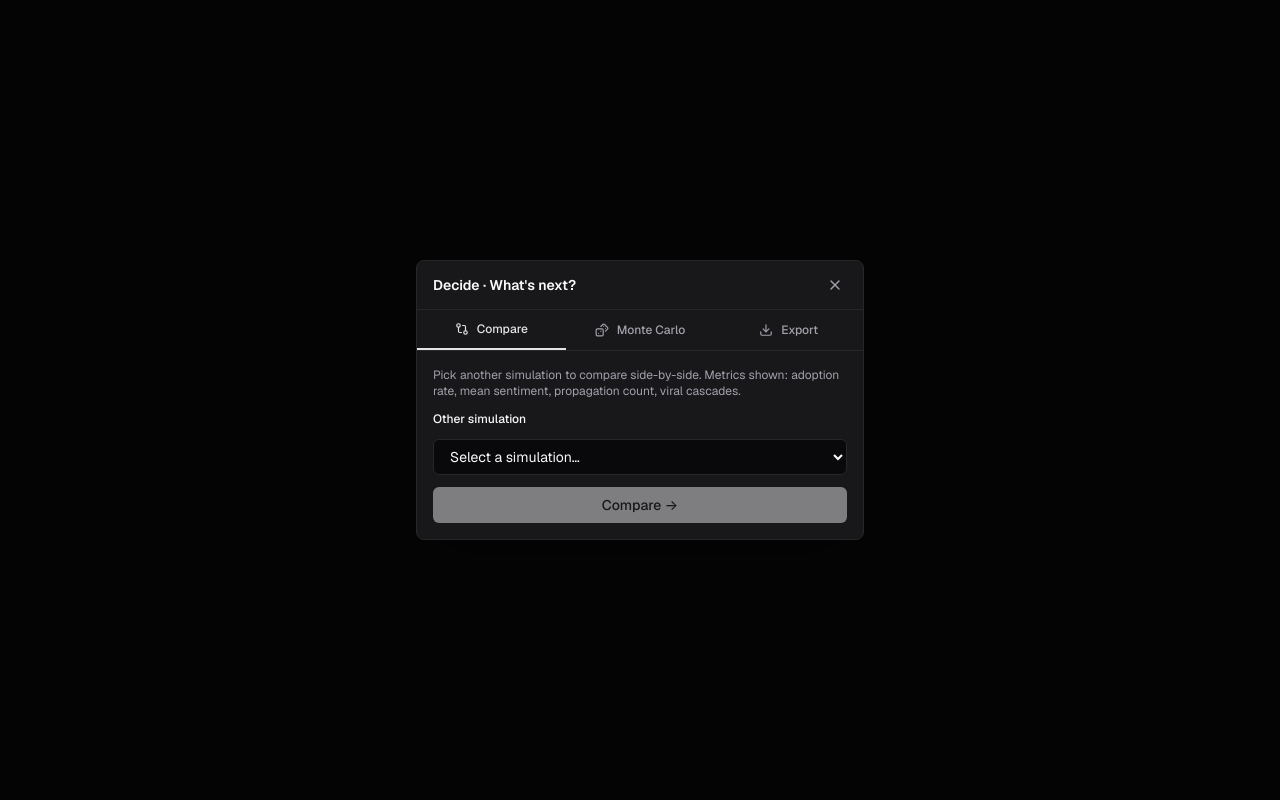
Test case: <DecidePanel /> › switches to Monte Carlo tab when clicked
The width and height of the screenshot is (1280, 800).
What coordinates should you click on to do the following:
click the button with test id "decide-tab-monte_carlo"
I would click on:
 (640, 330)
Its box is [566,310,714,350].
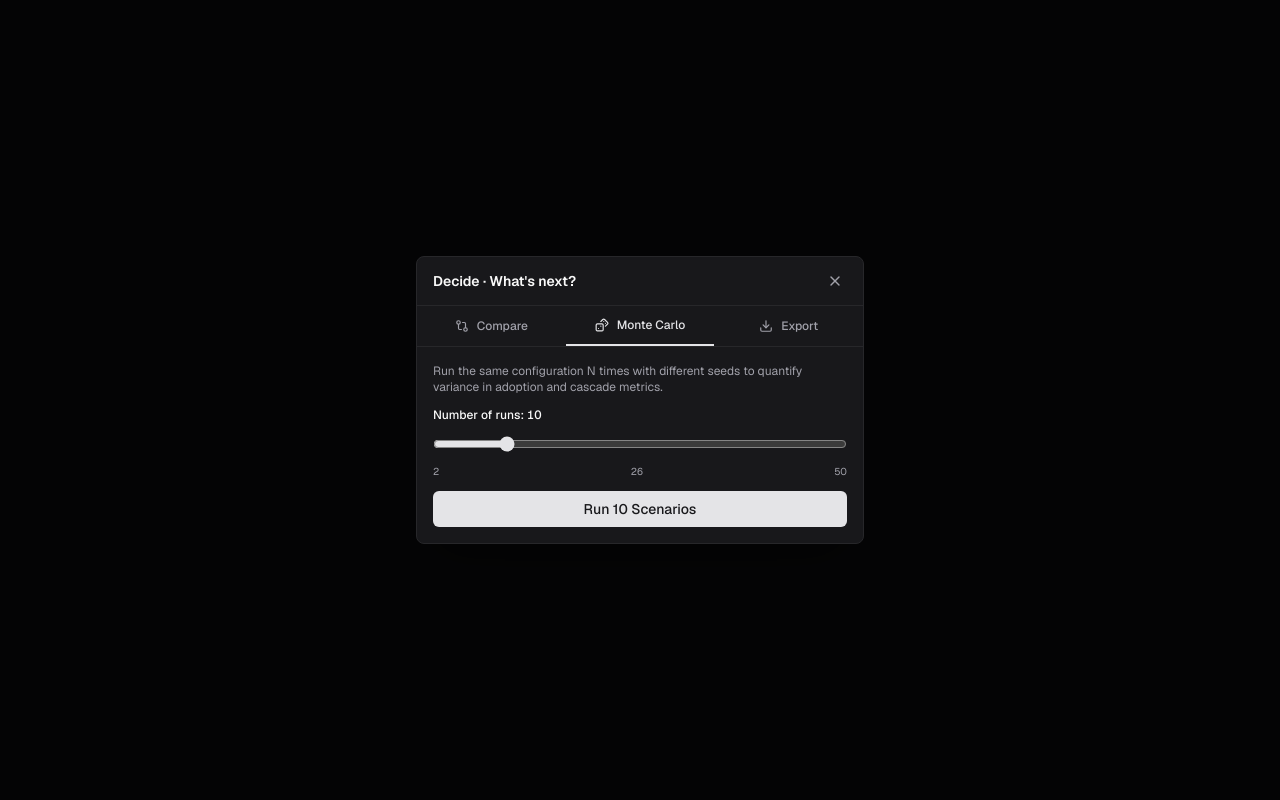
Now the slider with test id "decide-mc-runs-slider" is shown, box [433,436,847,452]
Now the button with test id "decide-mc-run" is shown, box [433,491,847,527]
